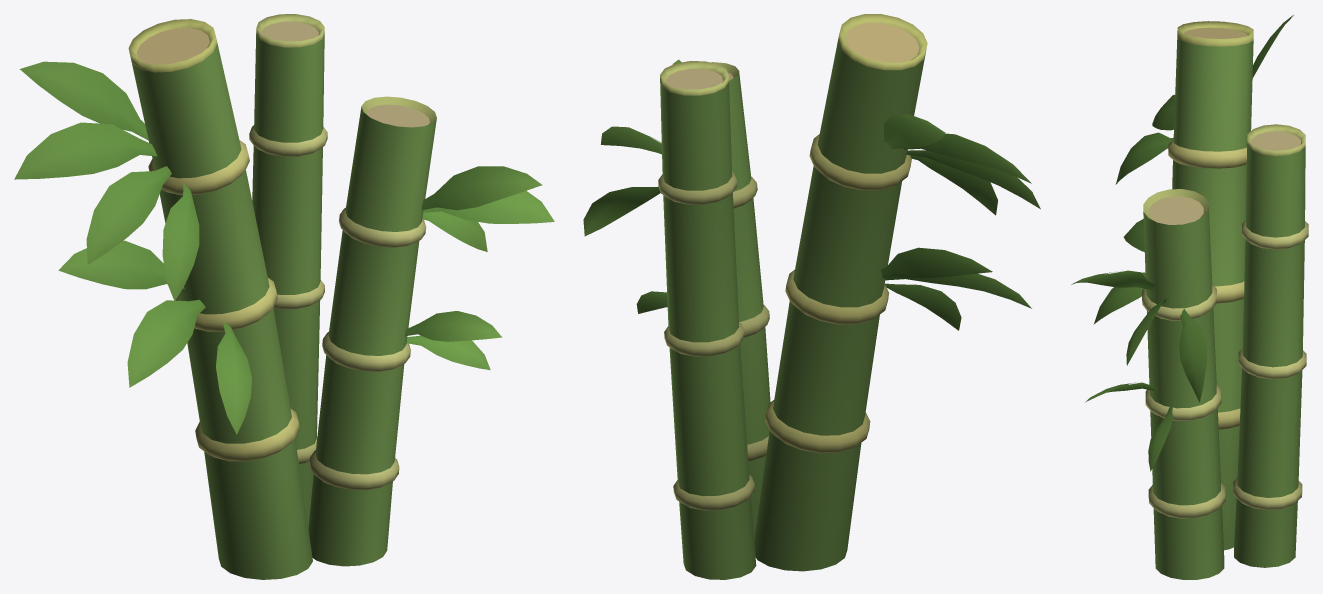
The model's file is Bamboo_Remake.glb.
3 renders of one model, left to right at view 1: azimuth 30°, elevation 25°; view 2: azimuth 150°, elevation 25°; view 3: azimuth 270°, elevation 25°, orthographic. The views are drawn at different scales.
Parts seen in each view (by area): view 1: Bamboo_Remake; view 2: Bamboo_Remake; view 3: Bamboo_Remake.
Part boxes in pixels (<box>): Bamboo_Remake: <box>14,14,554,579</box>; Bamboo_Remake: <box>583,14,1040,579</box>; Bamboo_Remake: <box>1071,15,1308,579</box>.
Bounding box in the file's own units: 4.18 × 4.48 × 2.04.
